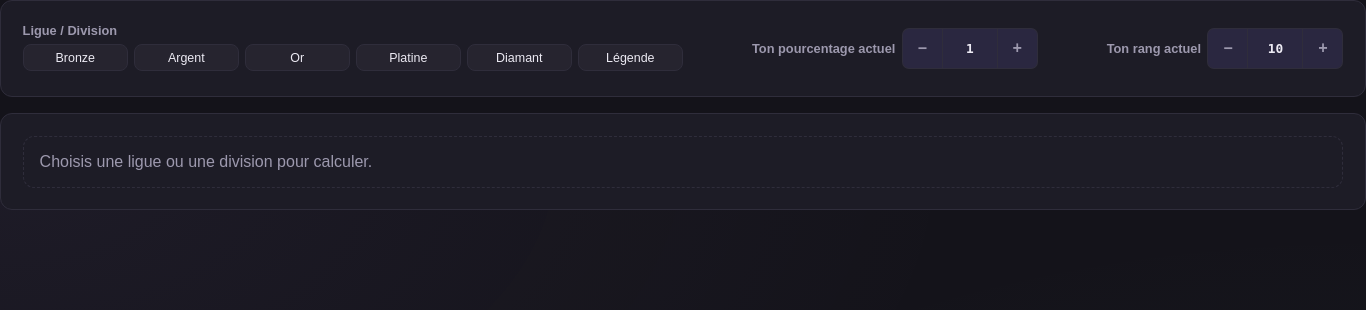
Scenario: RankingCalculator › shows the editable placeholder for an unknown league
This screenshot has width=1366, height=310.
Click the button "Bronze": (75, 58) [23,44,128,71]
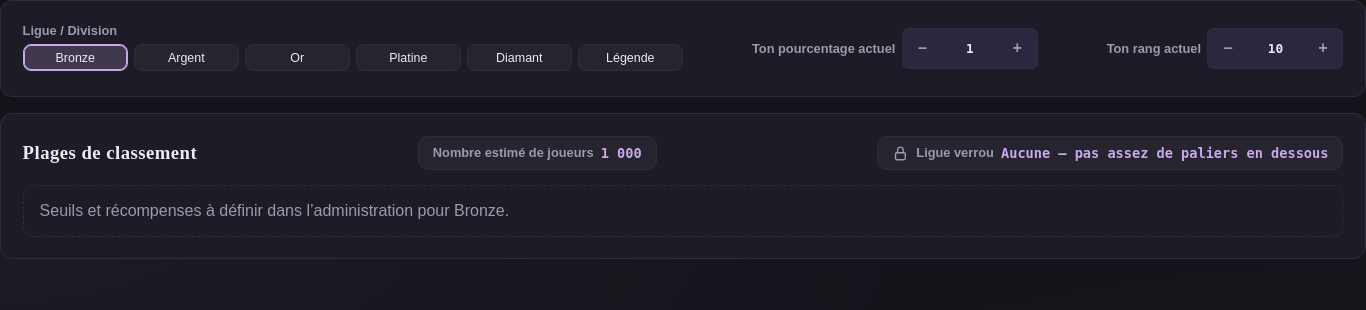
Now the text "à définir dans l’administration" is shown, box [40,202,509,219]
